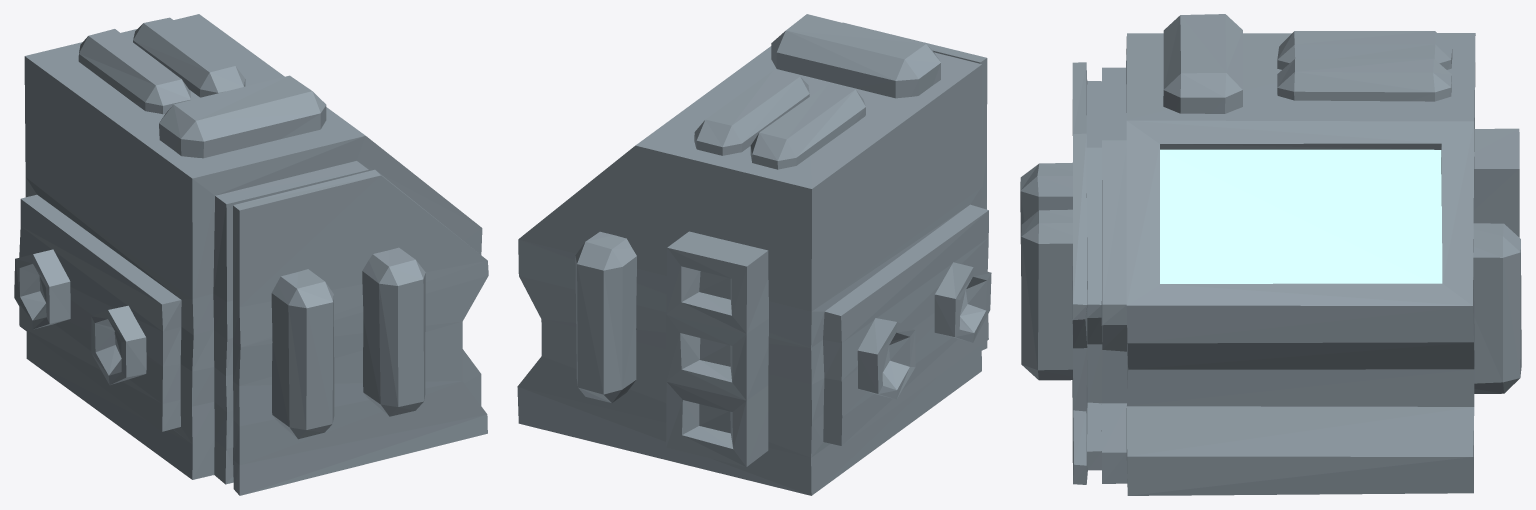
Rendered from Screen_Floor_Medium.fbx.
3 views of the same model, side by side, from view 1: azimuth 30°, elevation 25°; view 2: azimuth 150°, elevation 25°; view 3: azimuth 270°, elevation 25° (orthographic). The views are drawn at different scales.
Visible parts, largest first — view 1: Screen_Medium_Floor; view 2: Screen_Medium_Floor; view 3: Screen_Medium_Floor.
Boxes of the visible parts, left/top/right/bottom form: Screen_Medium_Floor: left=14, top=14, right=488, bottom=495; Screen_Medium_Floor: left=517, top=14, right=991, bottom=495; Screen_Medium_Floor: left=1020, top=14, right=1521, bottom=495.
Bounding box in the file's own units: 2.28 × 2.23 × 2.89.
